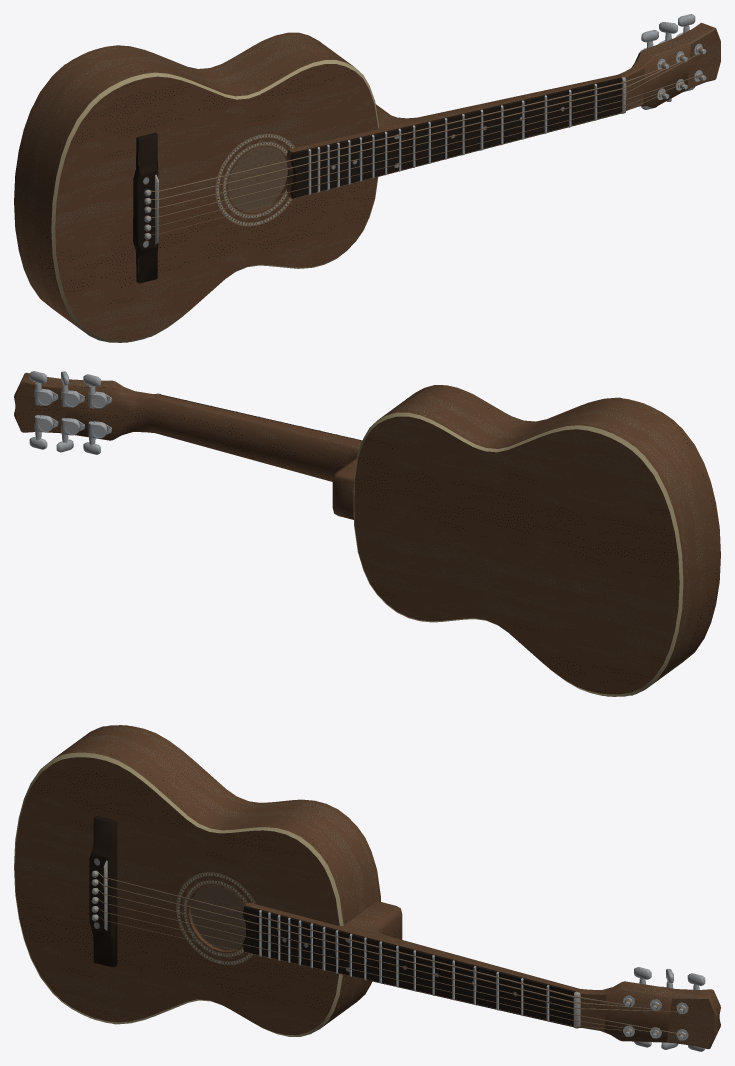
The model's file is mdl_paprika_guitar.gltf.
3 views of the same model, one above another, from view 1: azimuth 30°, elevation 25°; view 2: azimuth 150°, elevation 25°; view 3: azimuth 330°, elevation 25° (orthographic).
Visible parts, largest first — view 1: Object_2; view 2: Object_2; view 3: Object_2.
Part boxes in pixels (left/top/right/bottom): Object_2: left=14, top=14, right=720, bottom=342; Object_2: left=14, top=371, right=720, bottom=696; Object_2: left=14, top=725, right=720, bottom=1051.
Bounding box in the file's own units: 9.12 × 3.38 × 1.11.
1 material, 1 textured.
